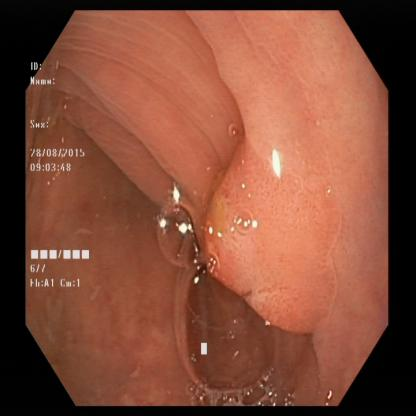Labels: (23, 56, 95, 297)
Polyps: (185, 160, 337, 340)
